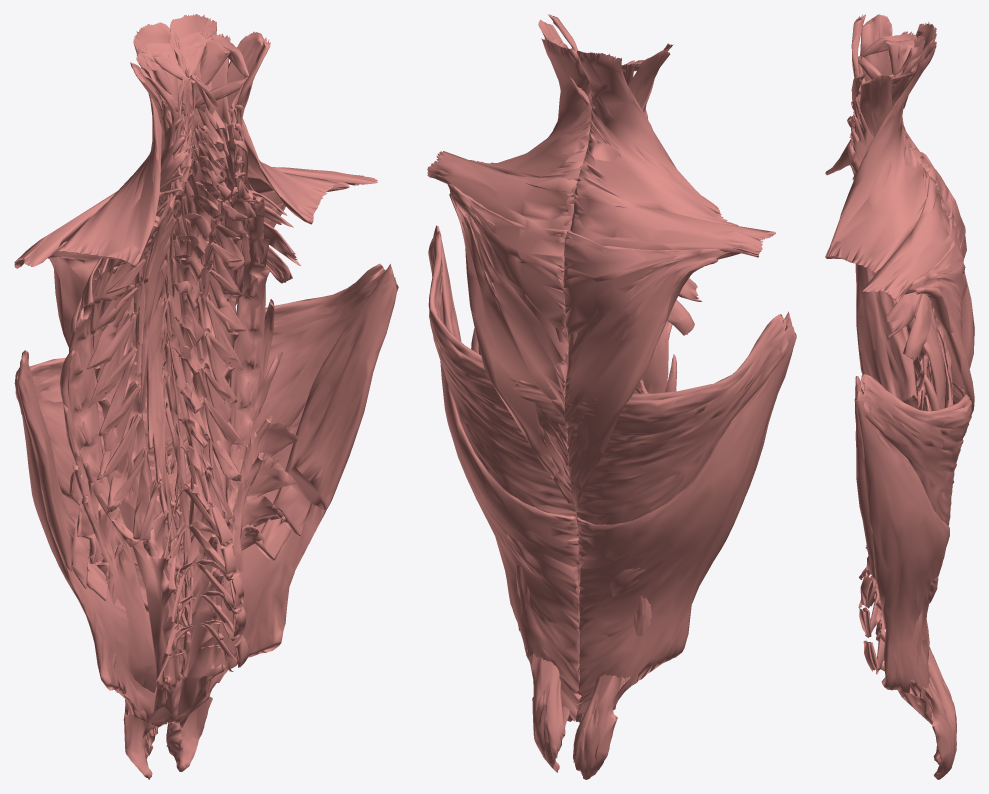
File: muscles-dos.lo.glb
The picture shows the model from 3 angles, left to right: view 1: azimuth 30°, elevation 25°; view 2: azimuth 150°, elevation 25°; view 3: azimuth 270°, elevation 25°; orthographic projection. The views are drawn at different scales.
Parts seen in each view (by area): view 1: ZA-grand-dorsal-g, ZA-grand-dorsal-d, FJ1535, FJ1535M, FJ1527, FJ1521, FJ1528M, FJ1525M, FJ1540, FJ1463, FJ1527M, FJ1528 (+33 smaller); view 2: ZA-grand-dorsal-d, ZA-grand-dorsal-g, FJ1520M, FJ1520, FJ1521, FJ1554, FJ1554M, FJ1521M, FJ1527, FJ1527M, FJ1528, FJ1545 (+1 smaller); view 3: ZA-grand-dorsal-g, FJ1521M, ZA-grand-dorsal-d, FJ1554M, FJ1520M, FJ1527M, FJ1542M, FJ1545M, FJ1520, FJ1545, FJ1521, FJ1528M (+15 smaller).
Boxes of the visible parts, box(x1,y1,x2,y2) form: ZA-grand-dorsal-g: box(162, 263, 398, 723); ZA-grand-dorsal-d: box(14, 350, 169, 726); FJ1535: box(93, 205, 182, 737); FJ1535M: box(168, 186, 253, 746); FJ1527: box(60, 347, 157, 779); FJ1521: box(58, 22, 187, 267); FJ1528M: box(225, 196, 269, 521); FJ1525M: box(172, 179, 221, 510); FJ1540: box(135, 200, 176, 514); FJ1463: box(86, 197, 170, 539); FJ1527M: box(166, 299, 282, 771); FJ1528: box(67, 222, 158, 546); ZA-grand-dorsal-d: box(567, 311, 796, 722); ZA-grand-dorsal-g: box(428, 225, 579, 721); FJ1520M: box(447, 183, 574, 504); FJ1520: box(563, 229, 740, 510); FJ1521: box(577, 50, 738, 225); FJ1554: box(567, 181, 775, 260); FJ1554M: box(427, 151, 577, 258); FJ1521M: box(470, 38, 591, 181); FJ1527: box(573, 354, 677, 779); FJ1527M: box(471, 328, 565, 772); FJ1528: box(642, 321, 672, 393); FJ1545: box(628, 50, 670, 108); ZA-grand-dorsal-g: box(854, 374, 972, 722); FJ1521M: box(825, 41, 936, 272); ZA-grand-dorsal-d: box(855, 263, 966, 714); FJ1554M: box(862, 176, 953, 304); FJ1520M: box(889, 217, 974, 414); FJ1527M: box(910, 374, 956, 779); FJ1542M: box(886, 292, 931, 360); FJ1545M: box(859, 75, 892, 138); FJ1520: box(920, 152, 974, 368); FJ1545: box(860, 14, 892, 81); FJ1521: box(825, 22, 936, 175); FJ1528M: box(914, 312, 945, 408).
Bounding box in the file's own units: 0.3574 × 0.6762 × 0.1246.
